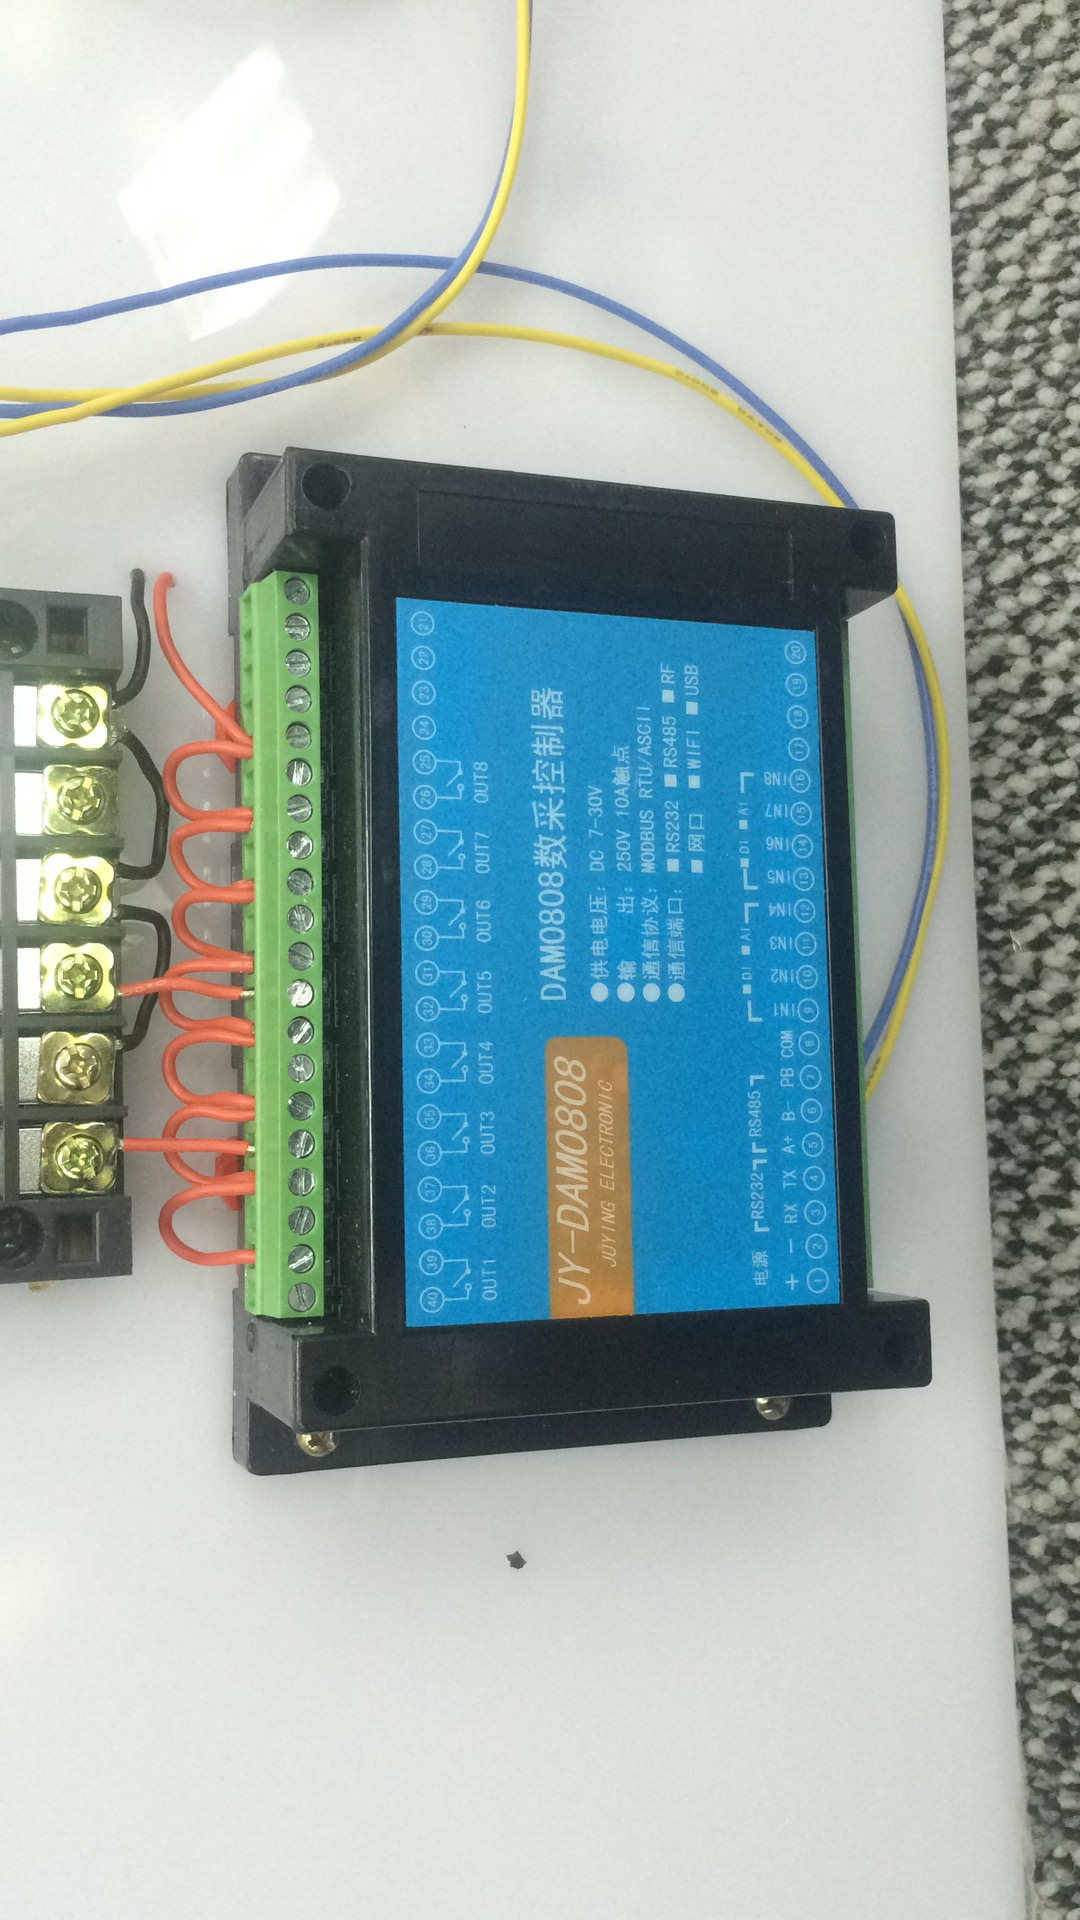relay: (211, 436, 947, 1502)
